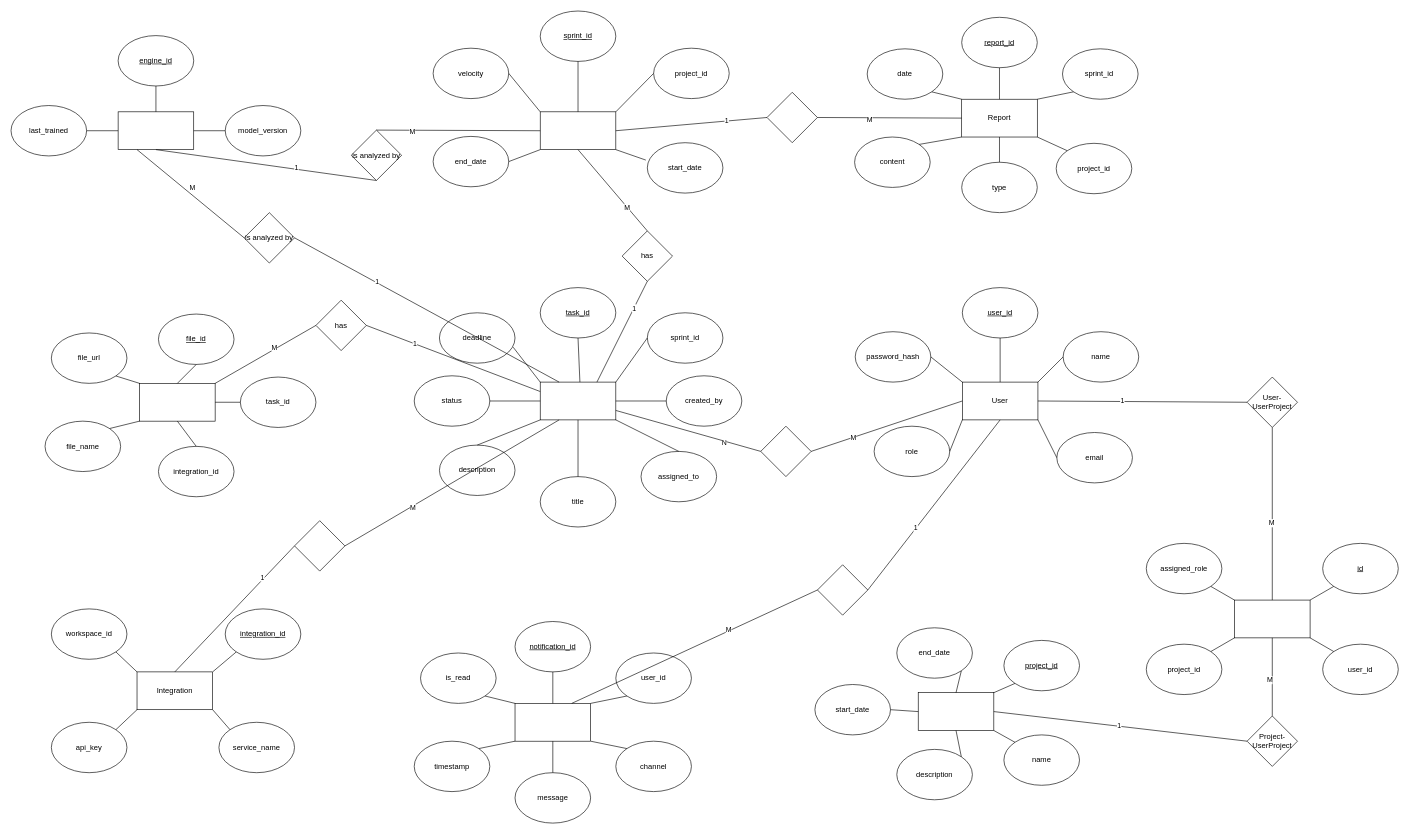
Some shapes in this 1409 by 834 pixel diagram are drawn without their labels. The centre of each missing label's shape, as x and y in pixels:
AI_Engine: [155,130]
creates: [785,451]
File_Attachment: [177,402]
Notification: [552,722]
produces: [791,117]
Project: [956,711]
receives: [842,589]
Sprint: [578,130]
syncs with: [319,545]
Task: [578,400]
User_Project: [1272,618]
